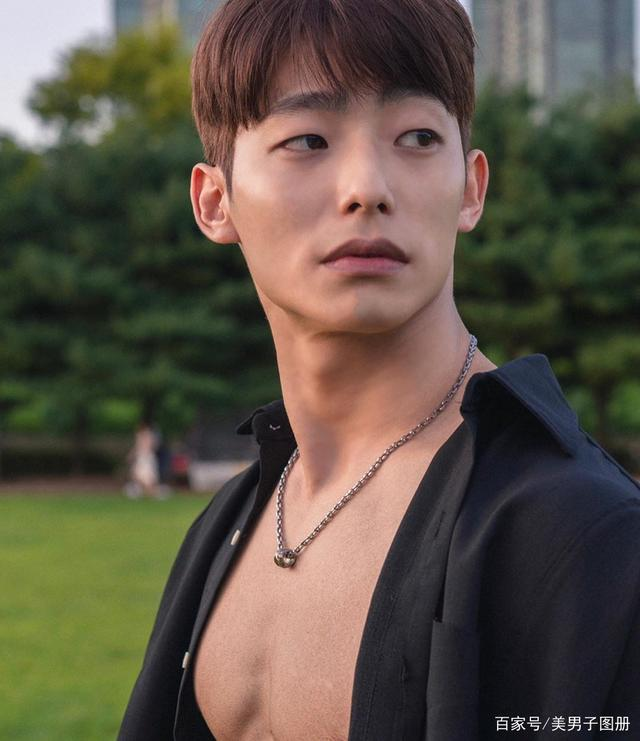person: (183, 19, 571, 721)
